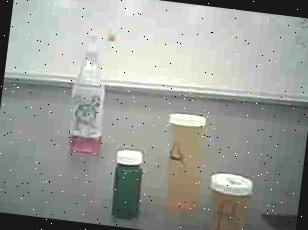Bottle A: (154, 110, 212, 219)
Bottle B: (201, 169, 254, 230)
Bottle C: (106, 145, 152, 225)
hazard: (60, 26, 121, 164)
